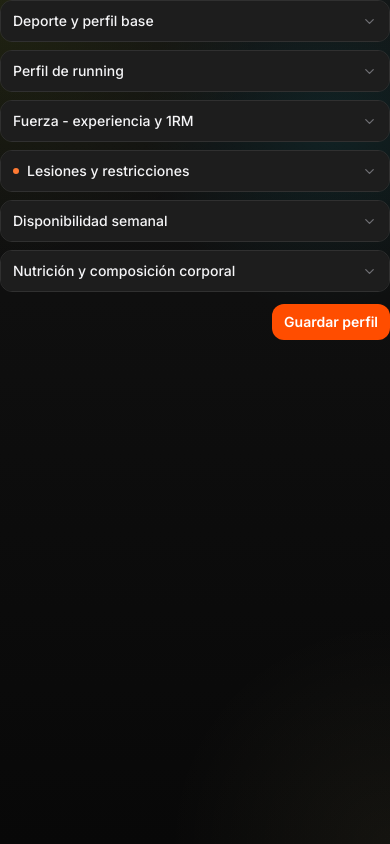
Test: AthleteProfileEditor weekly session target › shows the read-only constraint feedback below the recovery fields
Click the button "Lesiones y restricciones": (108, 170) [1,151,389,191]
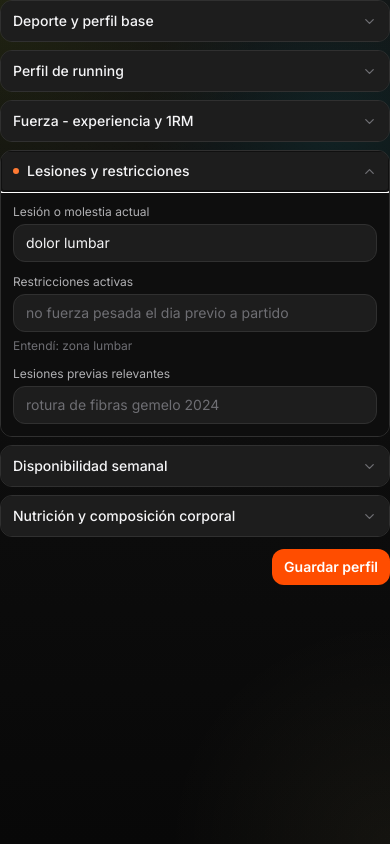
Result: the text "Entendí: zona lumbar" is shown at [13,338,132,353]
